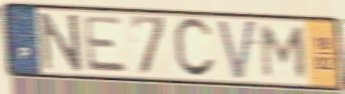7: (130, 14, 169, 78)
C: (171, 16, 218, 81)
E: (81, 14, 131, 75)
M: (260, 23, 309, 80)
N: (36, 11, 85, 73)
V: (215, 18, 259, 84)
